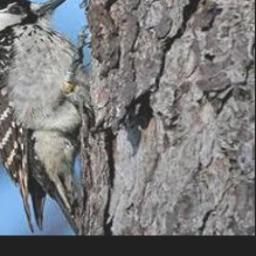Woodpecker: (0, 0, 122, 234)
